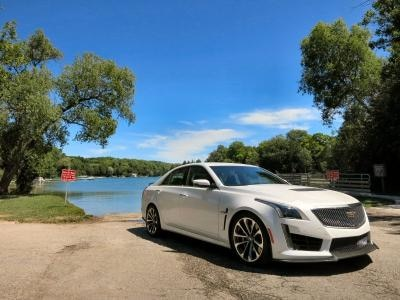car: (141, 162, 380, 266)
